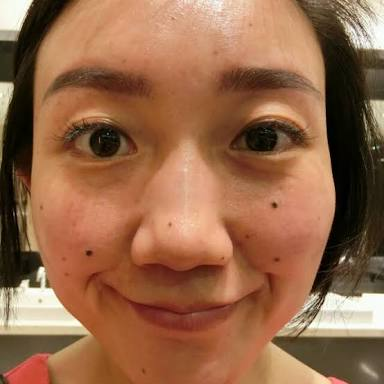jerawat: (211, 47, 220, 57), (170, 14, 178, 22), (247, 21, 254, 27)
